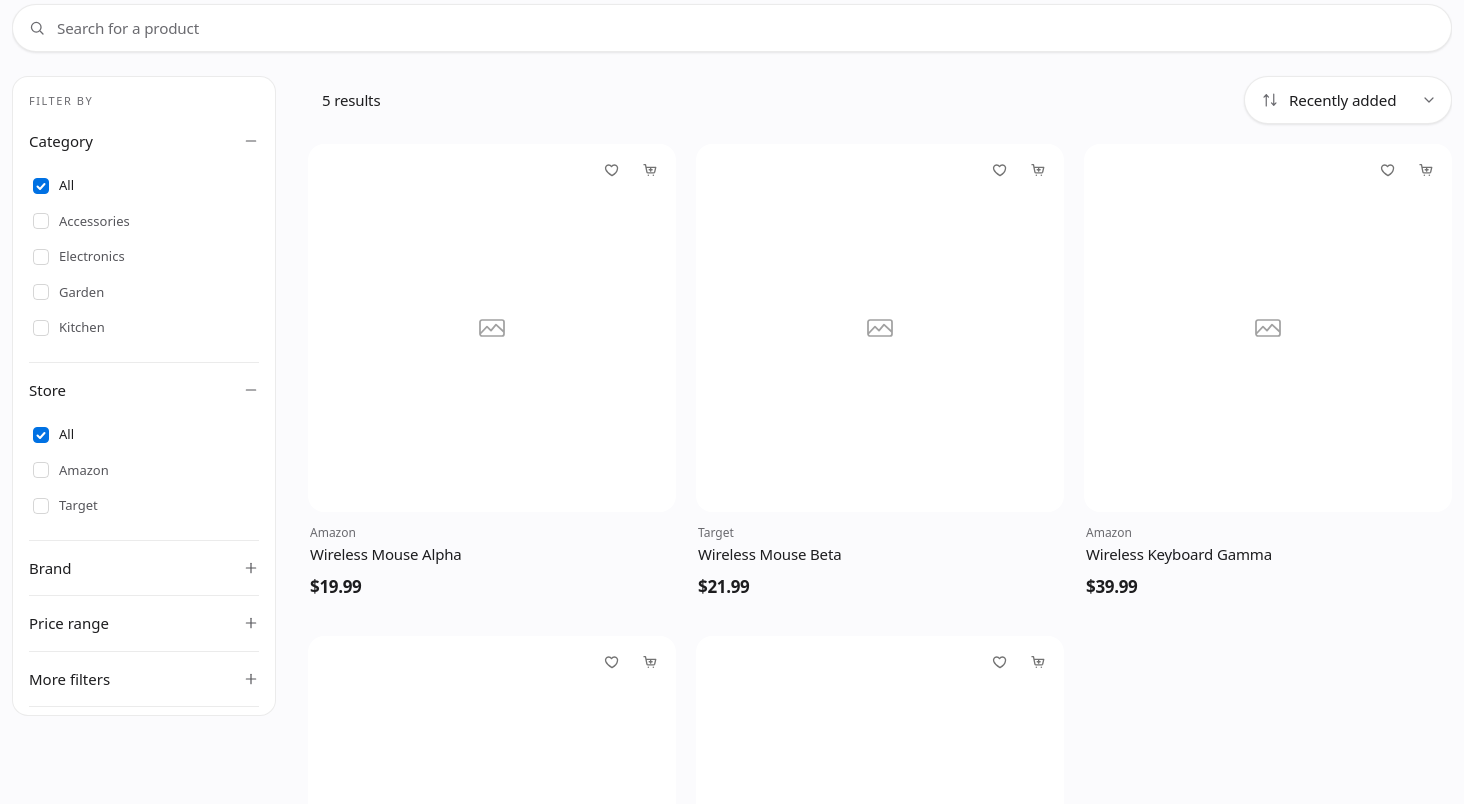
Test: ProductSearchApp › resetting the query and both filters back to 'todas' restores the full list
Type "Wireless" into the search field labelled "Search for a product" at (732, 28), box [12,4,1452,52]
Wait 300 ms
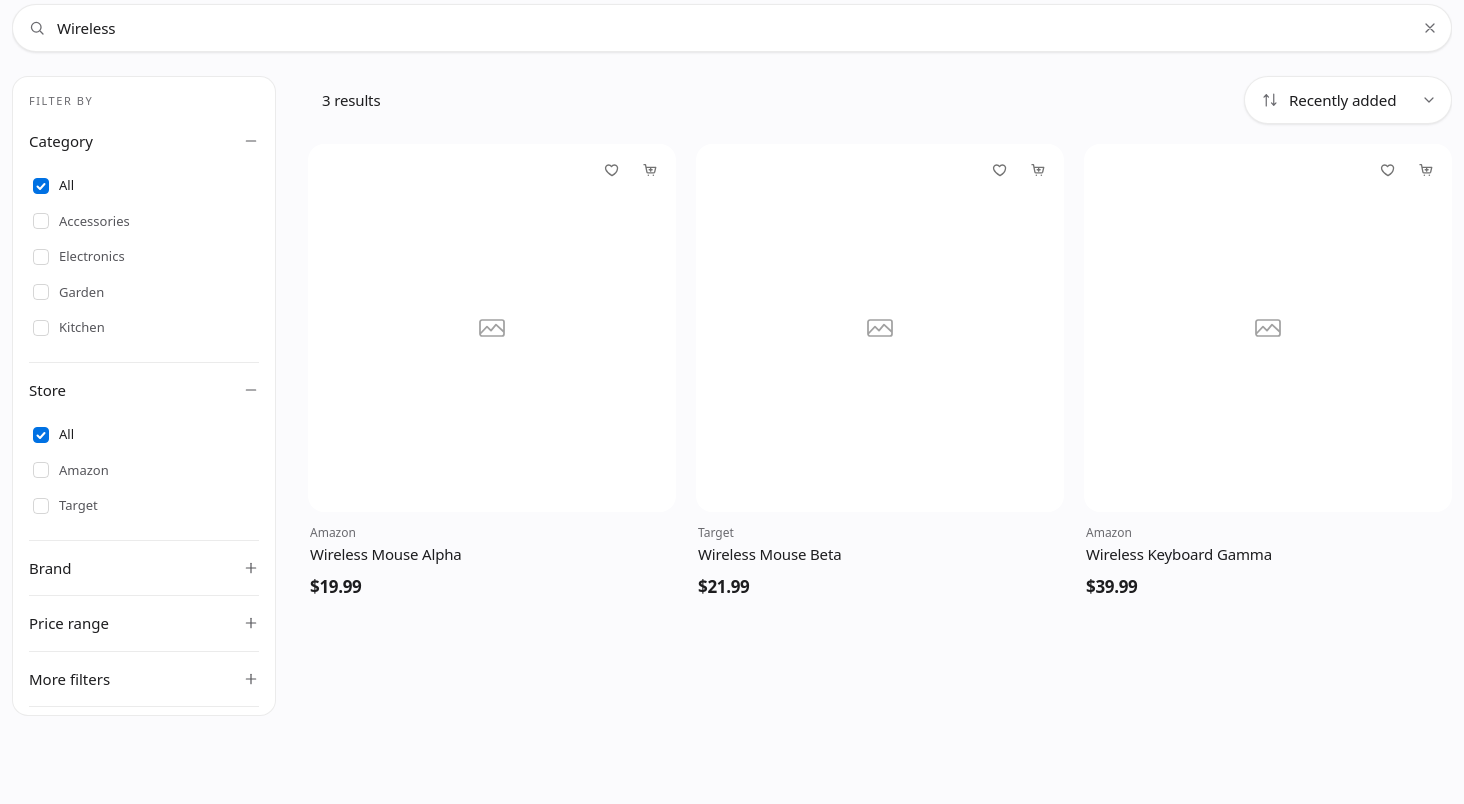
Click the checkbox labelled "Amazon" at (71, 470), box [33,460,109,478]
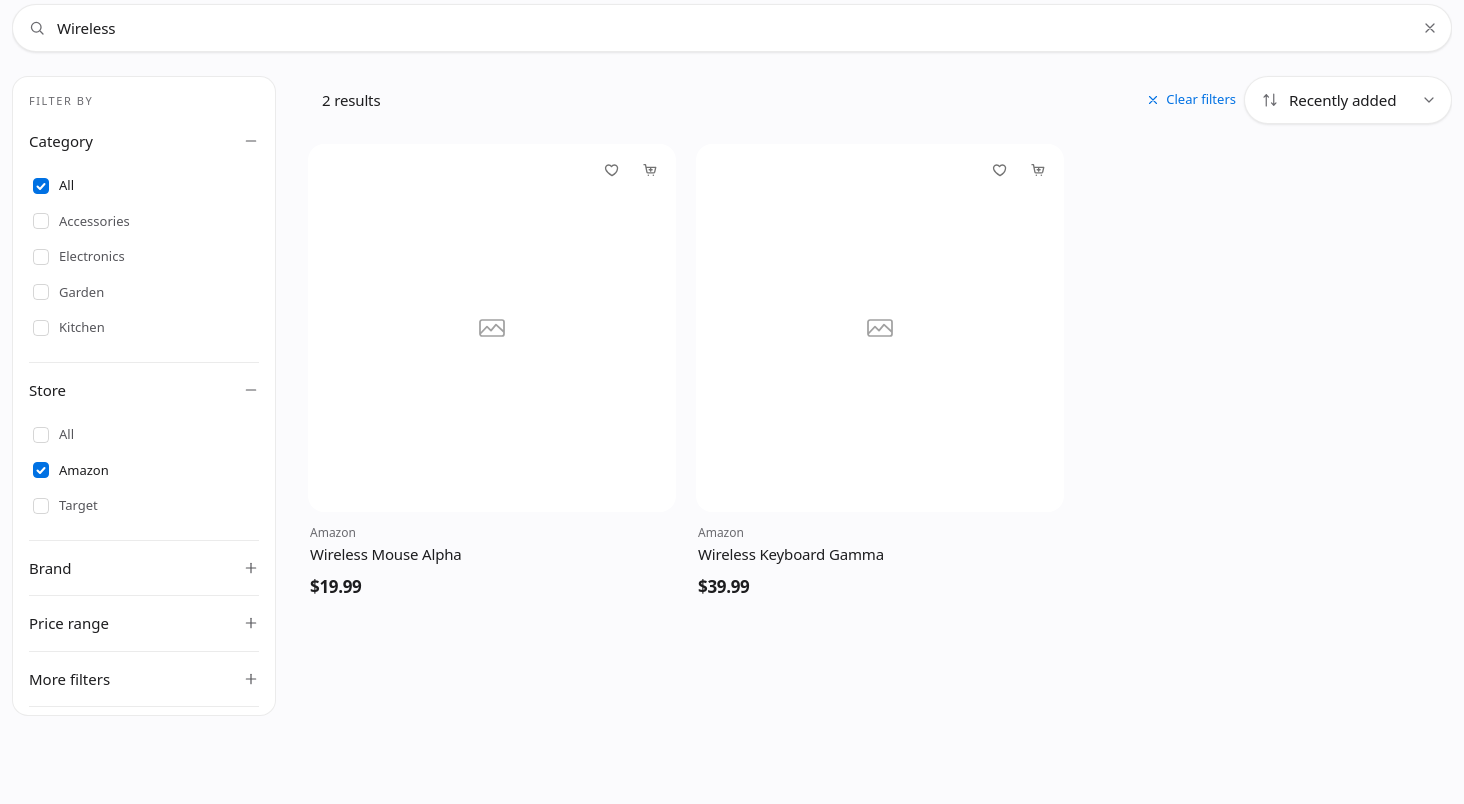
Click the checkbox labelled "Electronics" at (79, 256), box [33,247,125,265]
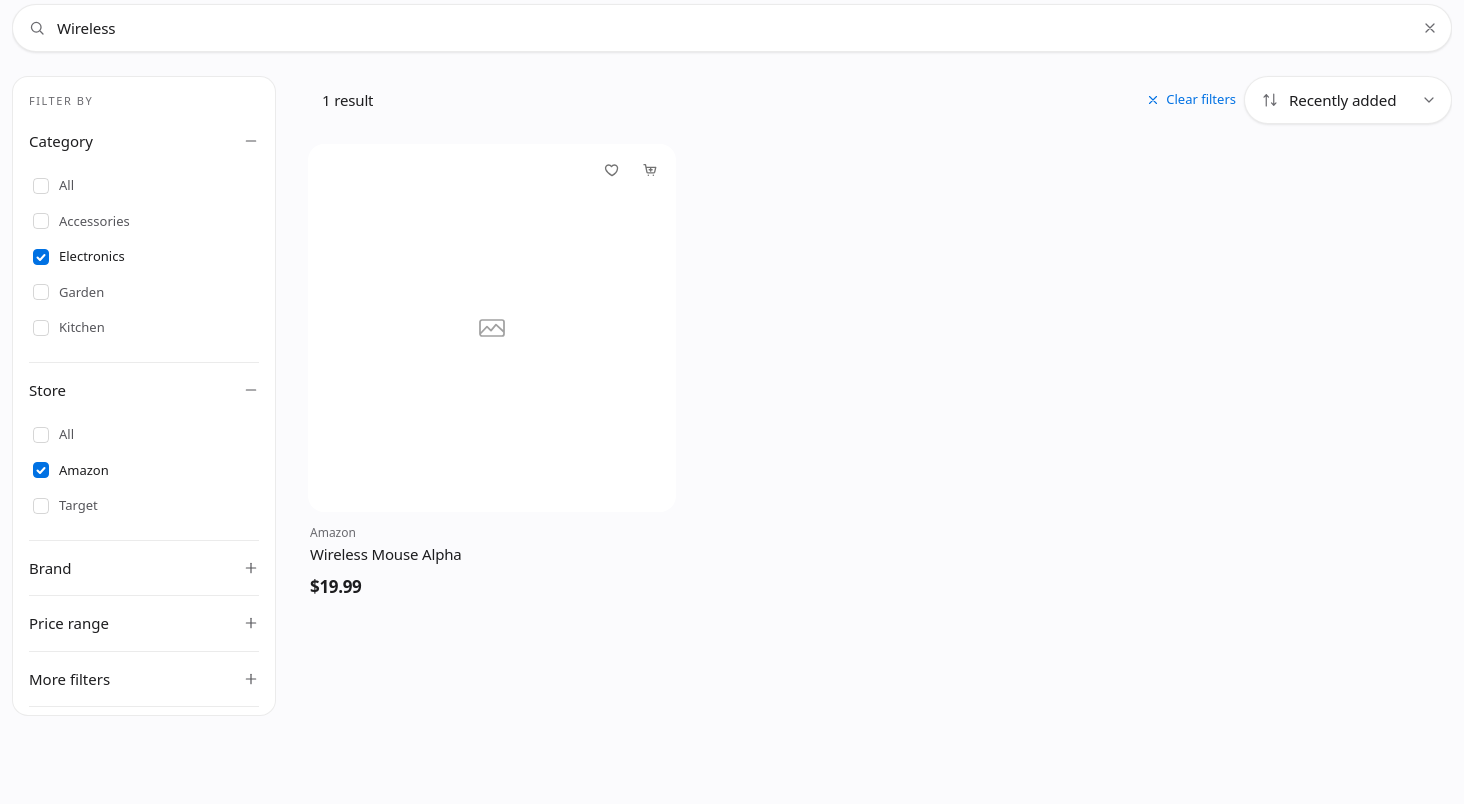
Clear the search field named "Search for a product" at (732, 28), box [12,4,1452,52]
Wait 300 ms
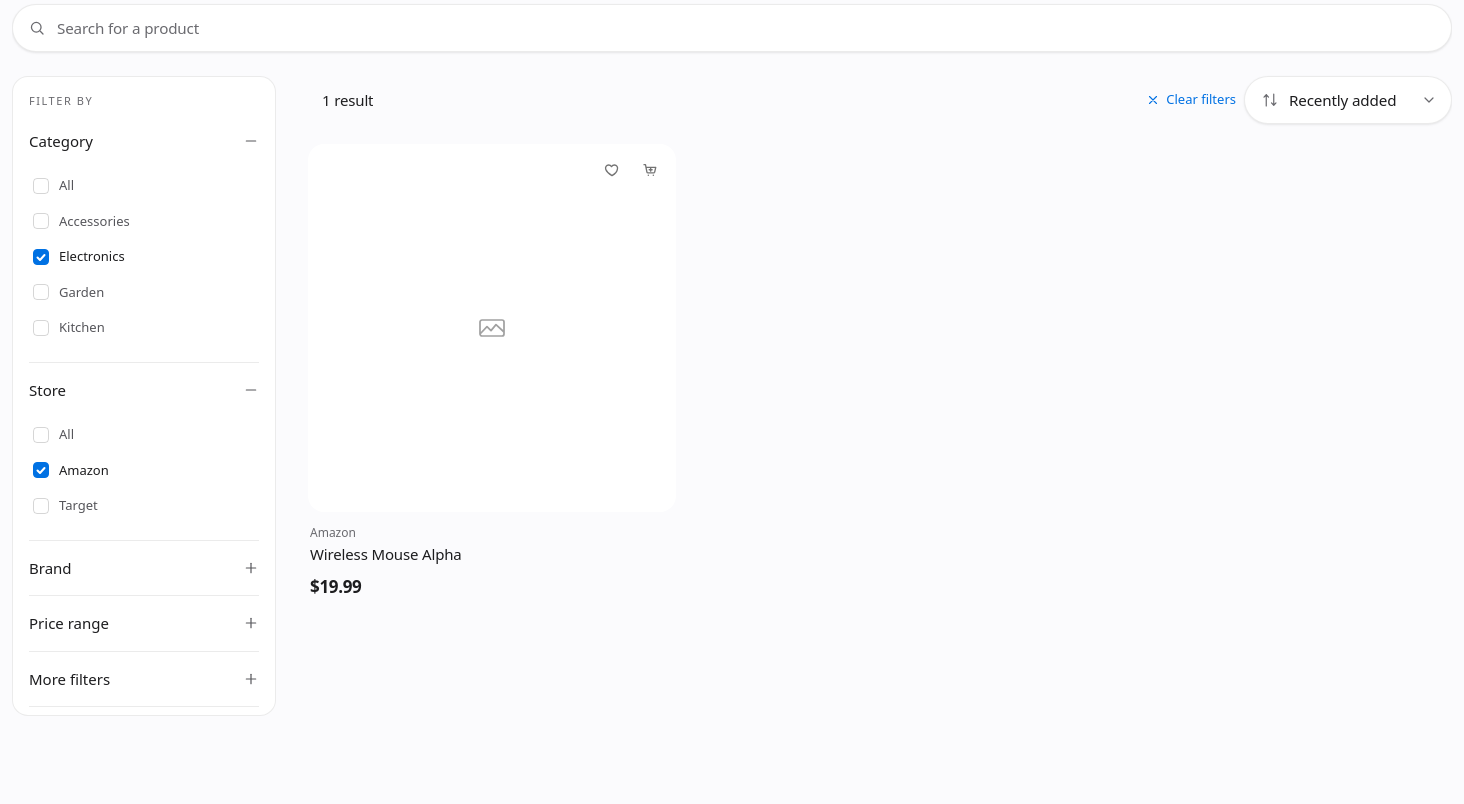
Click the 2nd checkbox labelled "All" at (41, 435), box [33,425,74,443]
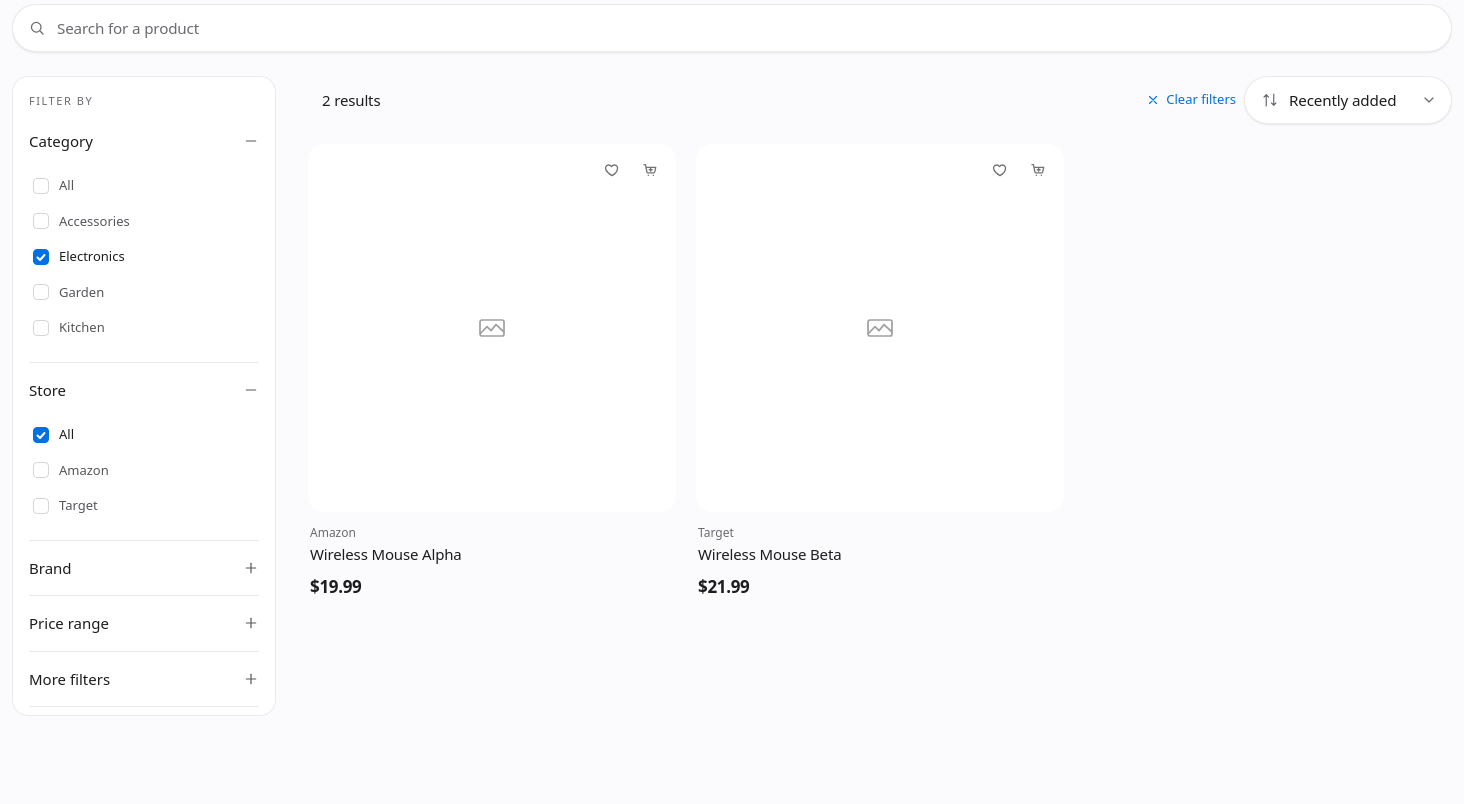
Click the 1st checkbox labelled "All" at (41, 186), box [33,176,74,194]
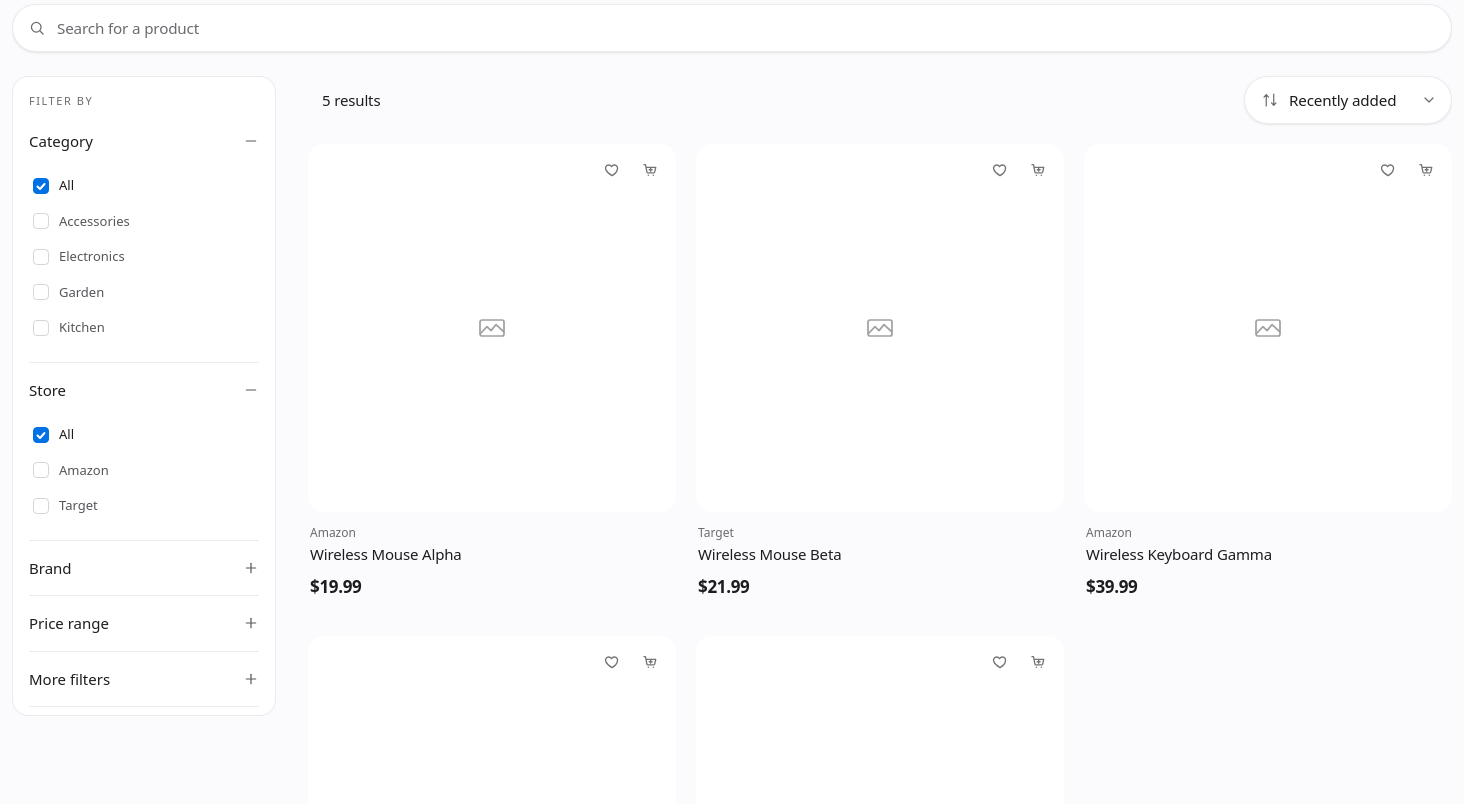
Check: the 1st checkbox labelled "All" is checked, box [33,176,74,194]
Check: the heading "Wireless Mouse Beta" is shown, box [698,544,842,564]
Check: the heading "Wireless Keyboard Gamma" is shown, box [1086,544,1272,564]
